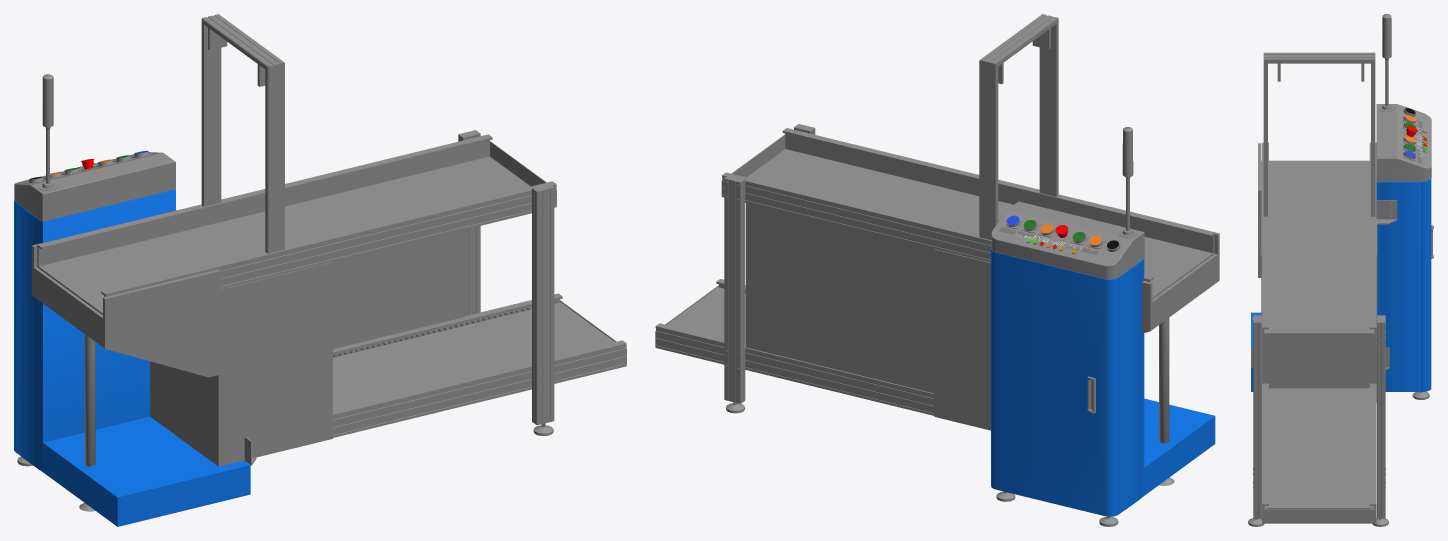
The model's file is switch.FBX.
3 views of the same model, side by side, from view 1: azimuth 30°, elevation 25°; view 2: azimuth 150°, elevation 25°; view 3: azimuth 270°, elevation 25° (orthographic). The views are drawn at different scales.
Visible parts, largest first — view 1: A; view 2: A; view 3: A, Plane001.
Boxes of the visible parts, <box> form: A: <box>14,14,626,526</box>; A: <box>655,14,1219,526</box>; A: <box>1248,14,1433,526</box>; Plane001: <box>1417,120,1422,163</box>.
Size of the model in its own units: 205 by 160 by 74.64.
